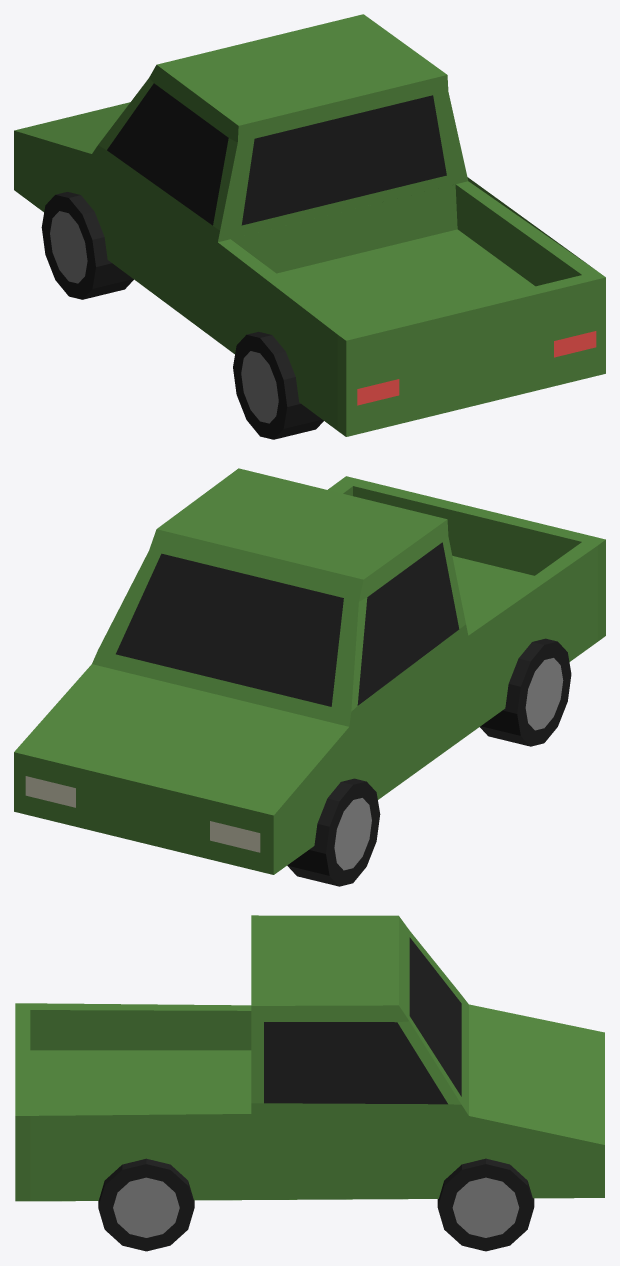
The model's file is car1.fbx.
3 views of the same model, one above another, from view 1: azimuth 30°, elevation 25°; view 2: azimuth 150°, elevation 25°; view 3: azimuth 270°, elevation 25° (orthographic). The views are drawn at different scales.
Visible parts, largest first — view 1: Car, Wheel, Wheel.001; view 2: Car, Wheel, Wheel.001; view 3: Car, Wheel, Wheel.001.
Boxes of the visible parts, bbox=[...] form: Car: bbox=[14, 14, 605, 436]; Wheel: bbox=[41, 192, 133, 299]; Wheel.001: bbox=[233, 331, 323, 439]; Car: bbox=[14, 468, 605, 874]; Wheel: bbox=[287, 778, 380, 886]; Wheel.001: bbox=[480, 638, 571, 746]; Car: bbox=[15, 915, 604, 1201]; Wheel: bbox=[437, 1158, 534, 1251]; Wheel.001: bbox=[98, 1158, 194, 1251].
Size of the model in its own units: 1.21 by 1.05 by 2.45.
